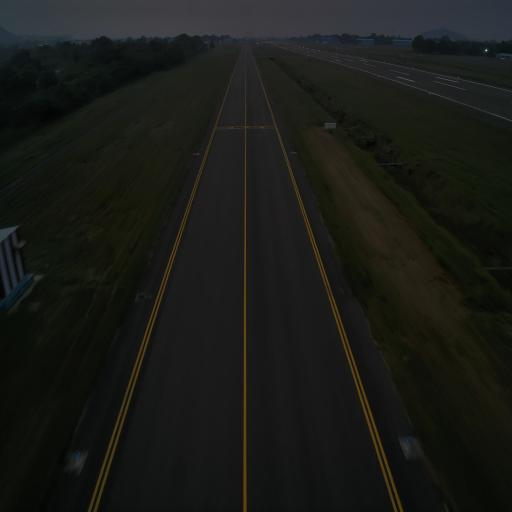on: (404, 434, 411, 448), (75, 448, 81, 462), (292, 148, 294, 152), (197, 150, 199, 154)
